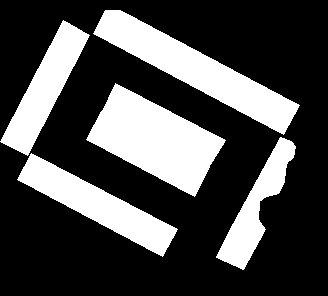parkingspot: (93, 10, 299, 134), (17, 153, 177, 256), (0, 20, 89, 155), (101, 83, 225, 169), (86, 111, 209, 196), (216, 137, 295, 269)
